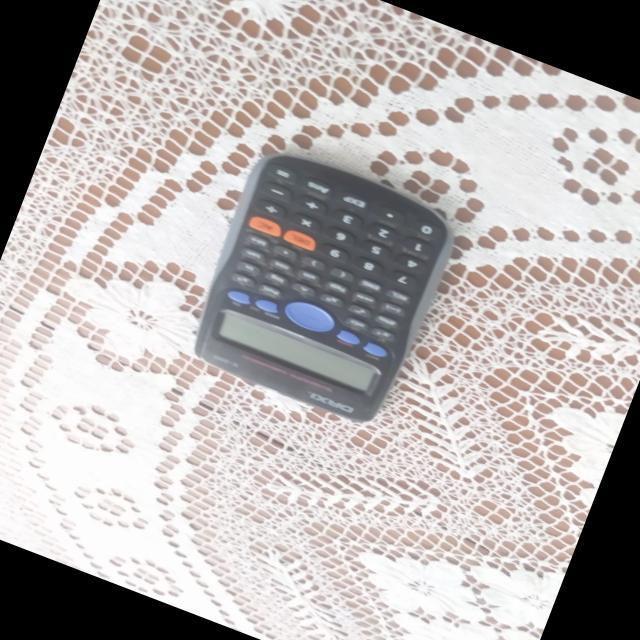Calculator: (172, 136, 466, 437)
